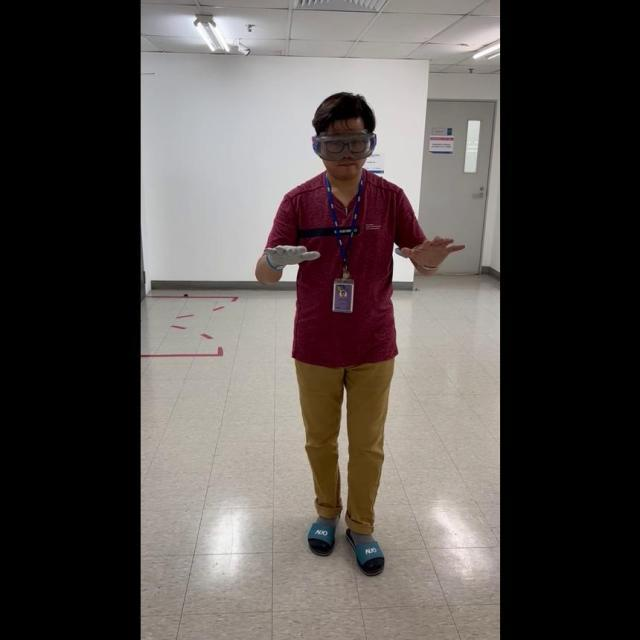bare_hand: (405, 229, 462, 270)
gloved_hand: (260, 237, 317, 273)
